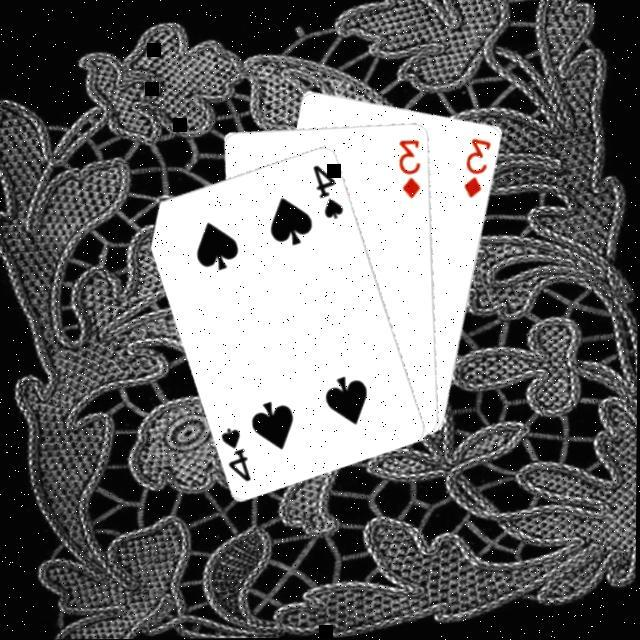3D: (452, 131, 498, 201), (391, 133, 427, 202)
4S: (214, 420, 253, 486), (308, 157, 346, 222)
